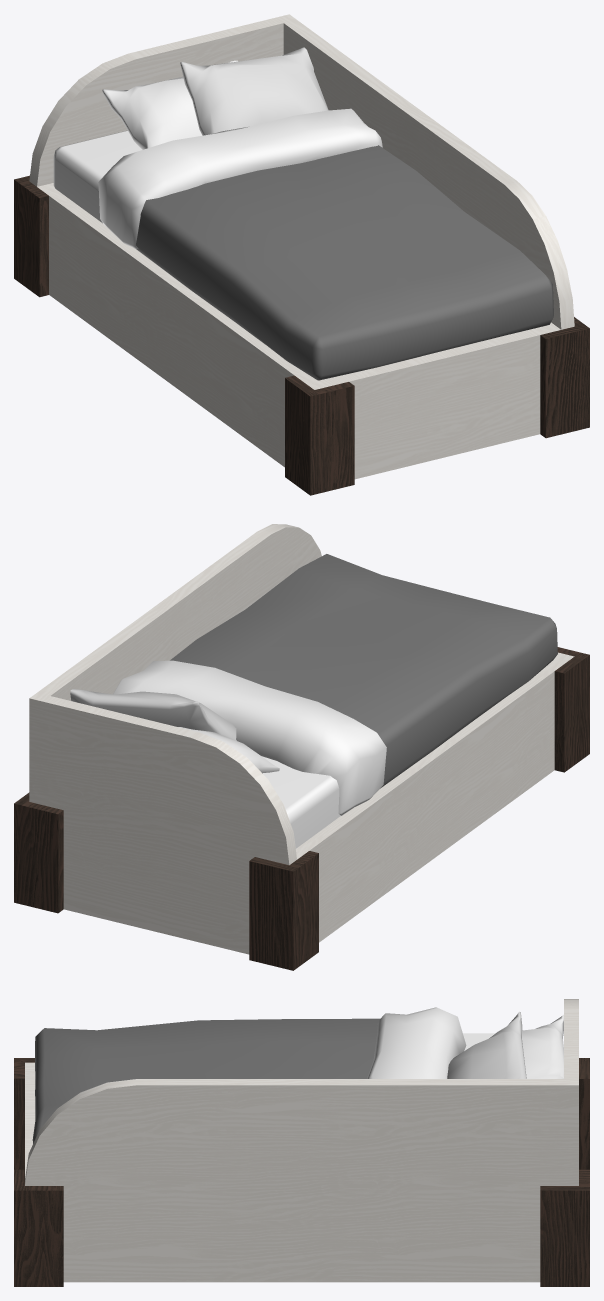
The model's file is bed_012.fbx.
The picture shows the model from 3 angles, top to bottom: view 1: azimuth 30°, elevation 25°; view 2: azimuth 150°, elevation 25°; view 3: azimuth 270°, elevation 25°; orthographic projection. The views are drawn at different scales.
Parts seen in each view (by area): view 1: bed_012; view 2: bed_012; view 3: bed_012.
Part boxes in pixels (bbox=[...]): bed_012: bbox=[14, 14, 589, 495]; bed_012: bbox=[14, 524, 589, 970]; bed_012: bbox=[14, 999, 589, 1286].
Bounding box in the file's own units: 144 × 265 × 104.
